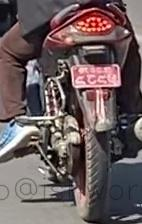license-plate: (71, 60, 128, 88)
